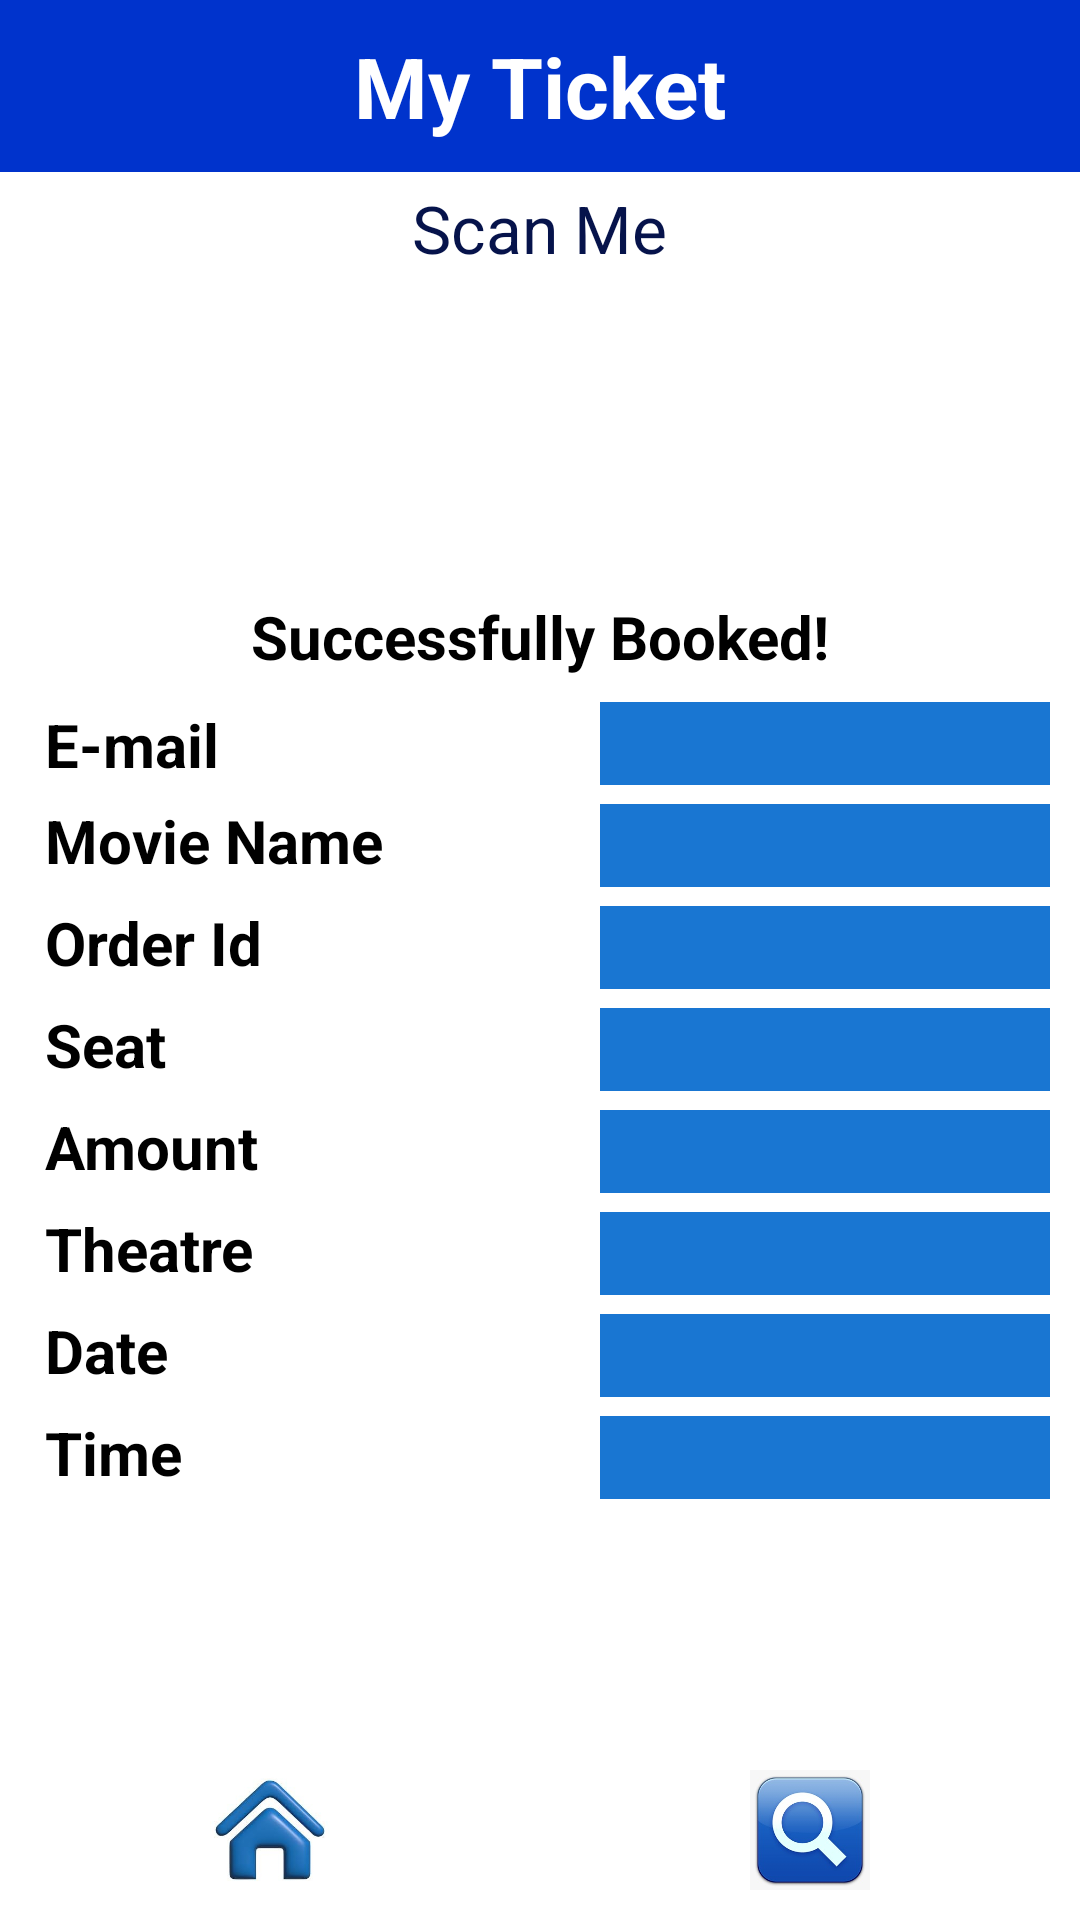

Named icons in this screenshot (1080 x 1920) and their bounding boxes, region(x1, y1, x2, y2):
Home: region(215, 1780, 325, 1880)
Search: region(756, 1776, 864, 1885)
